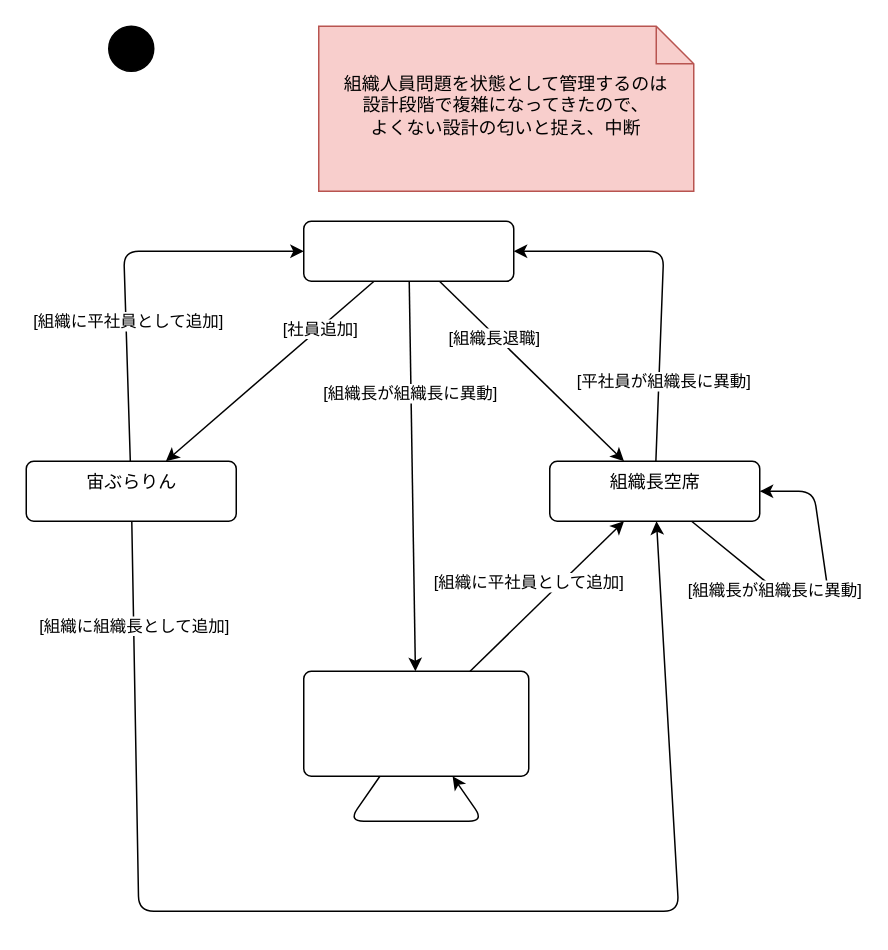
Some shapes in this 888 by 950 pixel diagram are drawn without their labels. Here are the shapes that lost their labels. From the top down, the centre of each, then its label:
At (x=408, y=250): "問題なし".
At (x=415, y=723): "宙ぶらりん 且つ 組織長空席".
